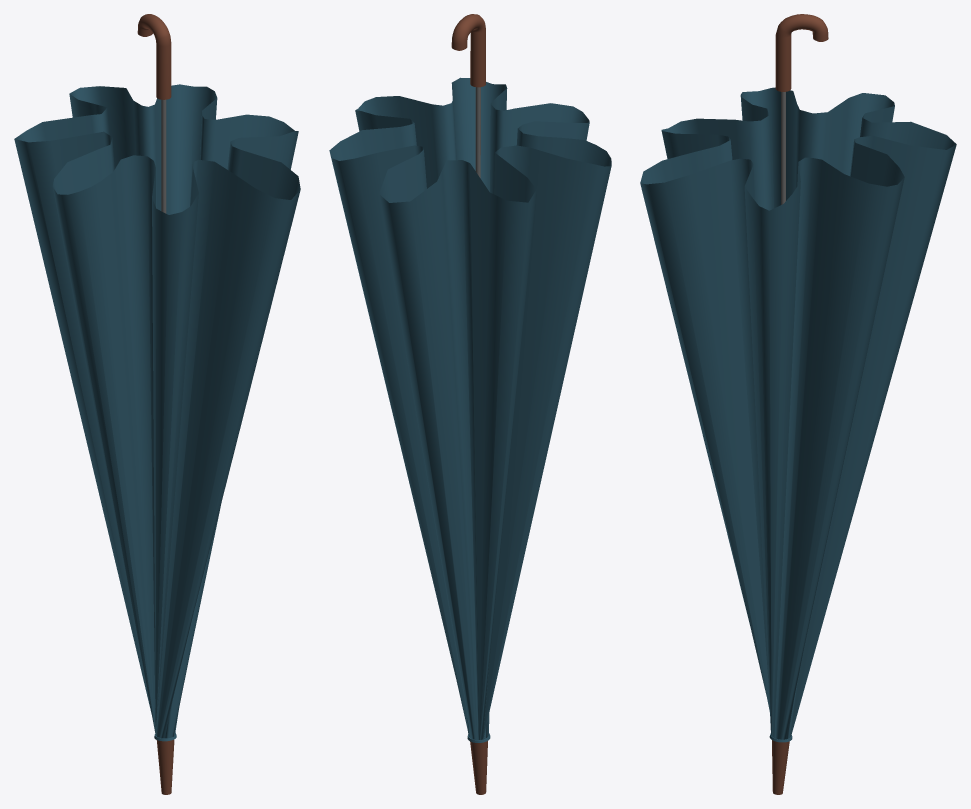
File: umbrella .fbx
3 views of the same model, side by side, from view 1: azimuth 30°, elevation 25°; view 2: azimuth 150°, elevation 25°; view 3: azimuth 270°, elevation 25° (orthographic). The views are drawn at different scales.
Visible parts, largest first — view 1: umbrella; view 2: umbrella; view 3: umbrella.
Part boxes in pixels (x1,y1,x2,y2): umbrella: (14, 14, 300, 794); umbrella: (329, 14, 611, 794); umbrella: (640, 14, 956, 794).
Bounding box in the file's own units: 0.4617 × 1.4 × 0.5142.
